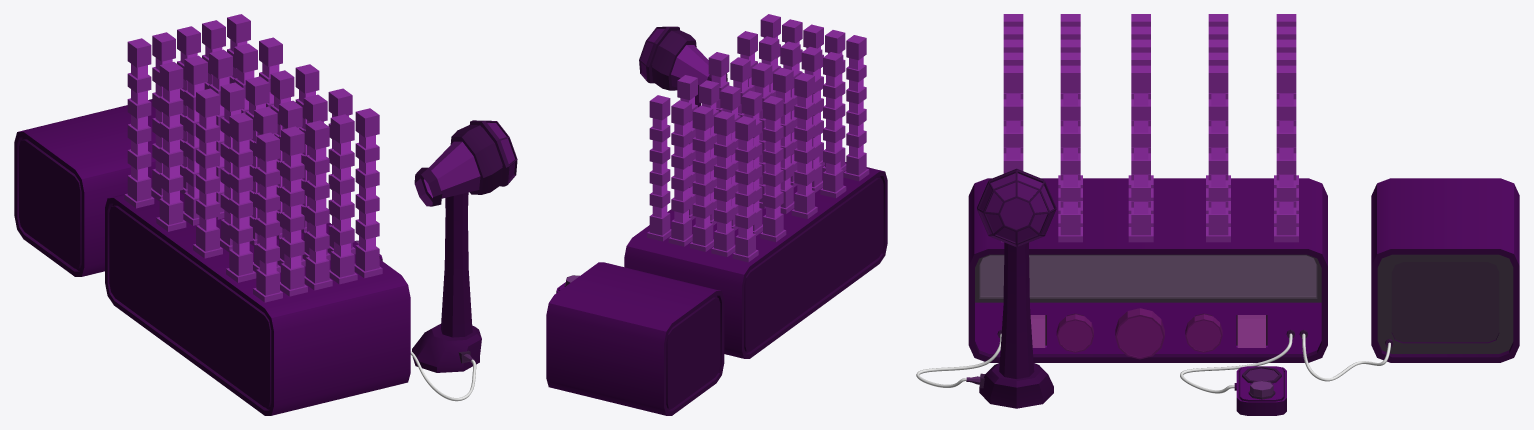
File: RadioX.glb
3 renders of one model, left to right at view 1: azimuth 30°, elevation 25°; view 2: azimuth 150°, elevation 25°; view 3: azimuth 270°, elevation 25°, orthographic. The views are drawn at different scales.
Parts seen in each view (by area): view 1: Cube; view 2: Cube; view 3: Cube, NurbsPath.
Boxes of the visible parts, x1,y1,x2,y2 form: Cube: (14, 14, 517, 415); Cube: (546, 14, 887, 415); Cube: (966, 14, 1519, 415); NurbsPath: (916, 333, 1390, 393).
Bounding box in the file's own units: 5.02 × 5.01 × 9.6.
2 materials, 1 textured.
